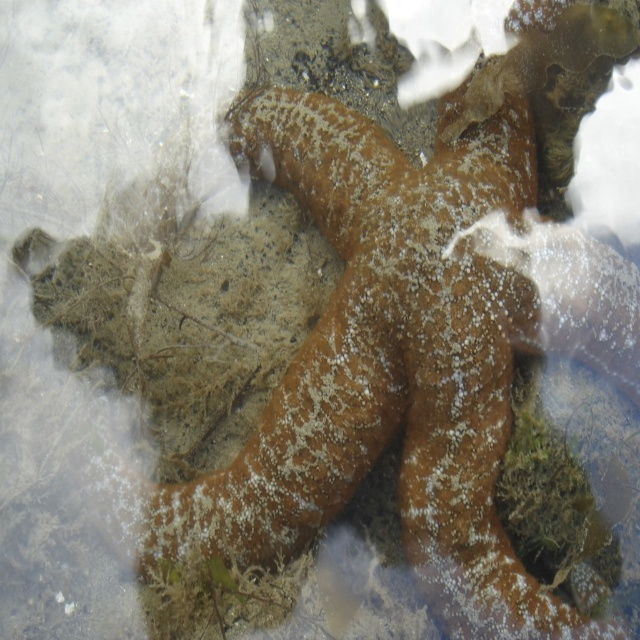Starfish: (54, 0, 640, 640)
